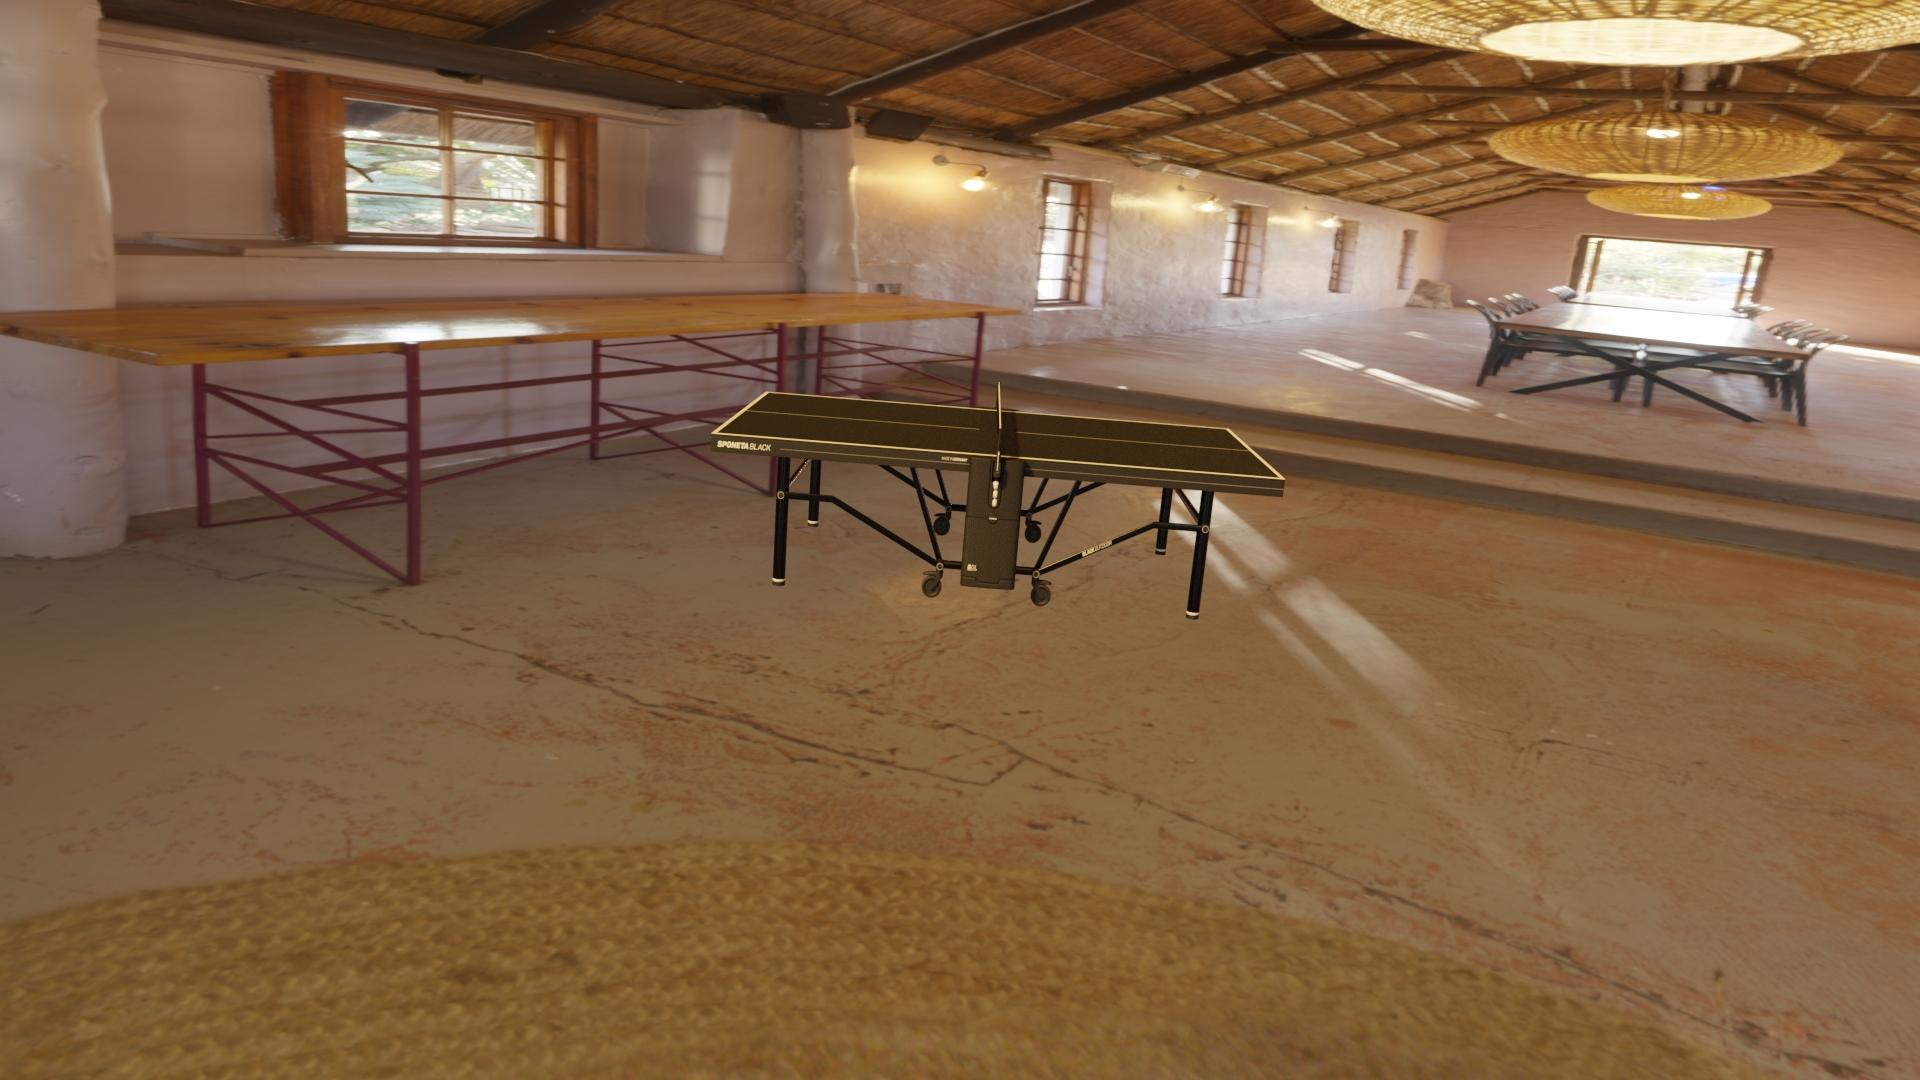table: (716, 393, 1280, 479)
